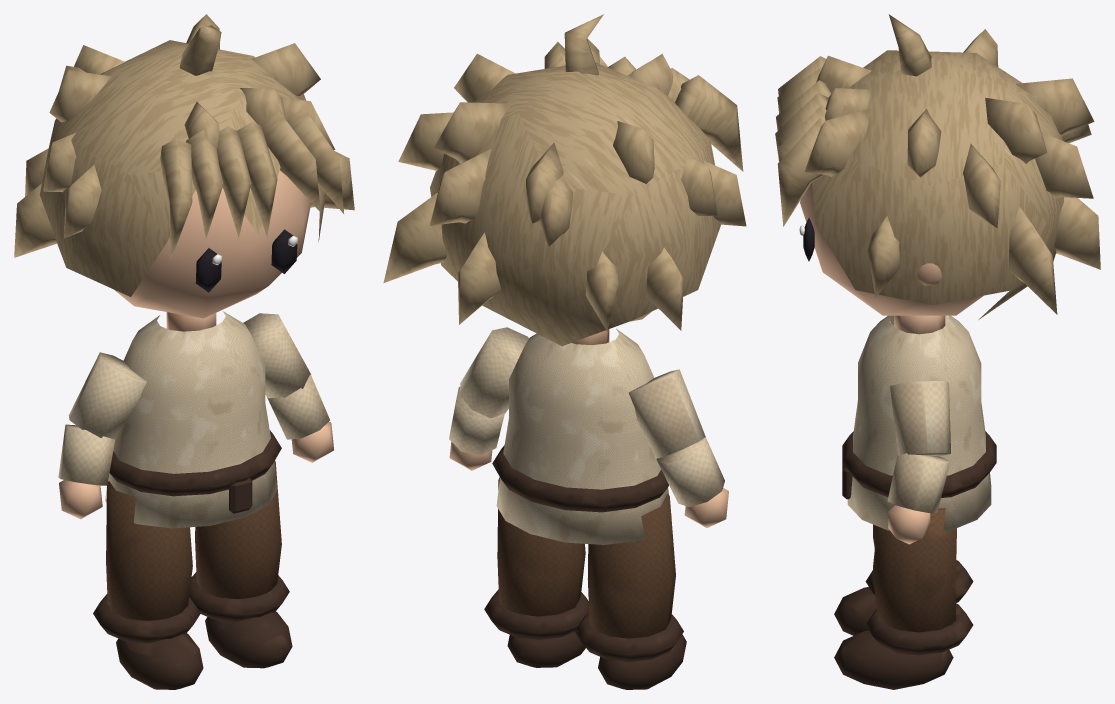
File: ev_peasant.glb
3 views of the same model, side by side, from view 1: azimuth 30°, elevation 25°; view 2: azimuth 150°, elevation 25°; view 3: azimuth 270°, elevation 25° (orthographic).
Visible parts, largest first — view 1: ev_peasant_peasant; view 2: ev_peasant_peasant; view 3: ev_peasant_peasant.
Boxes of the visible parts, box(x1,y1,x2,y2) form: ev_peasant_peasant: box(14, 14, 354, 689); ev_peasant_peasant: box(383, 14, 746, 689); ev_peasant_peasant: box(775, 14, 1100, 689).
Size of what is drawn, in the model's own units: 0.6463 by 1.39 by 0.6335.
Materials: 7 (7 with a texture image).
